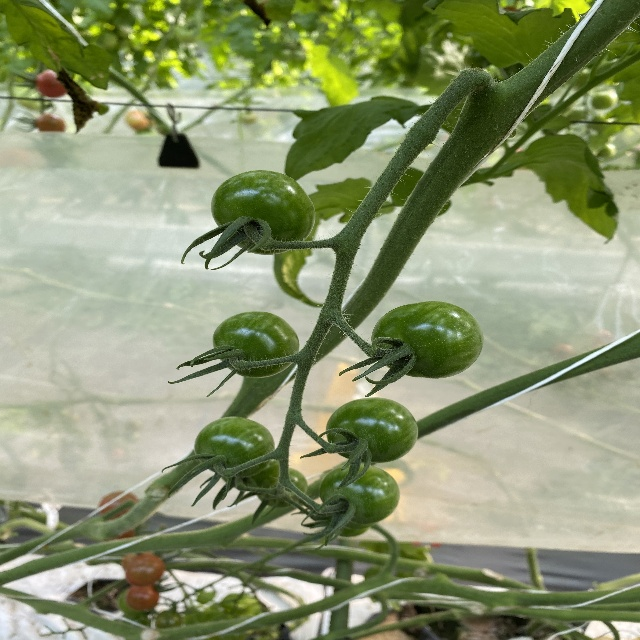l_green: (210, 171, 316, 255), (369, 301, 484, 378), (326, 397, 419, 463), (212, 311, 300, 378), (195, 417, 276, 476), (318, 463, 399, 522), (258, 467, 308, 507), (219, 460, 279, 489)
